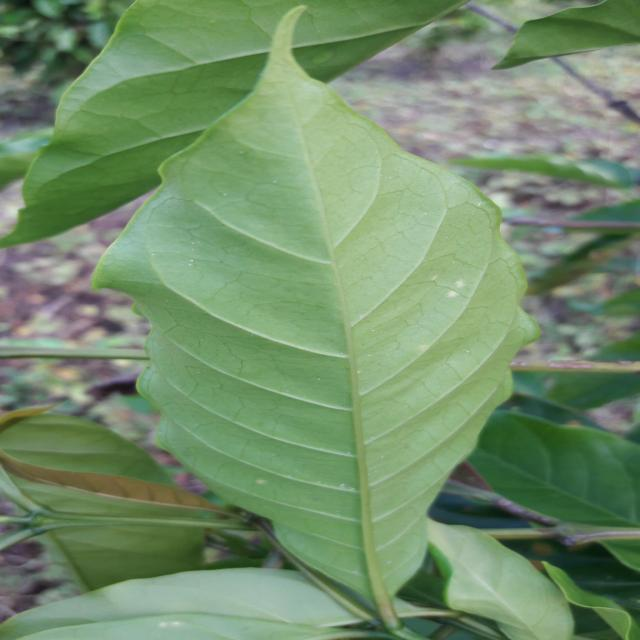Sanas: (91, 7, 542, 630)
